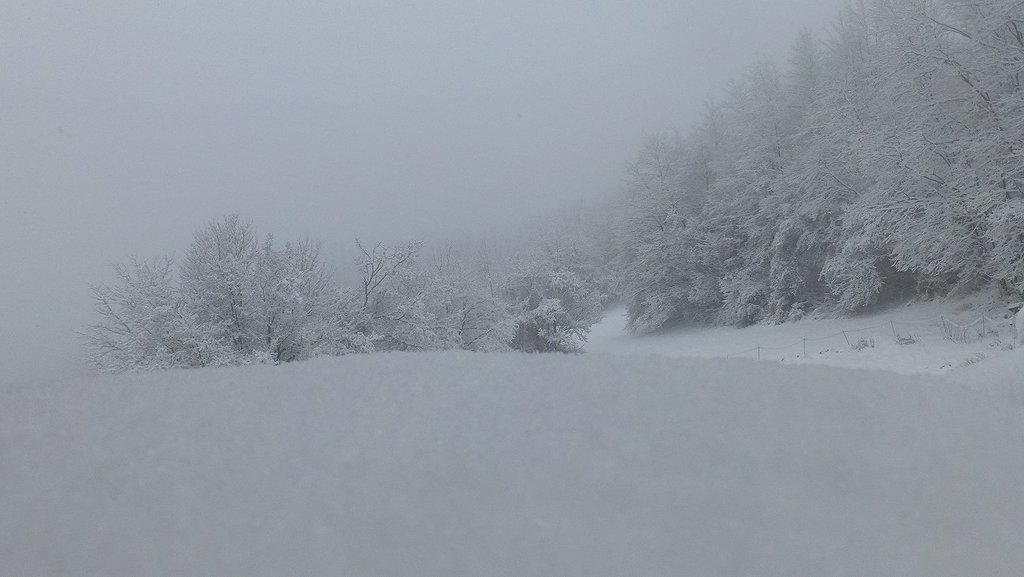Tree: (77, 0, 1023, 381)
